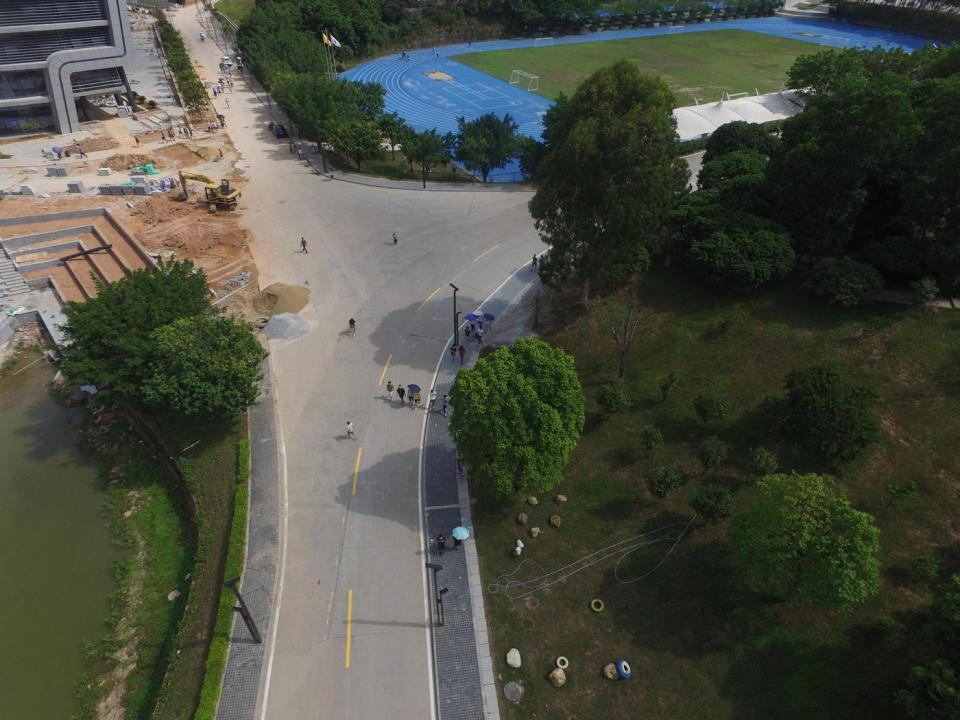car: (271, 124, 288, 138), (220, 56, 233, 66)
